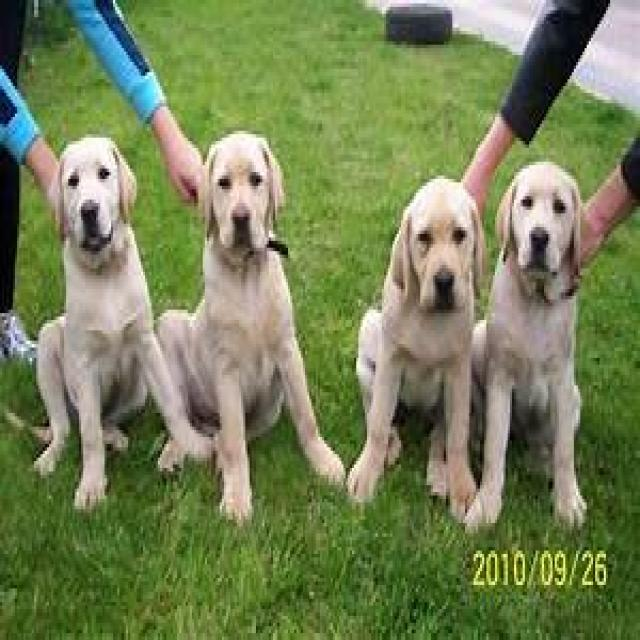dog: (152, 127, 346, 523), (30, 130, 215, 512), (346, 172, 484, 523), (463, 158, 587, 534)
